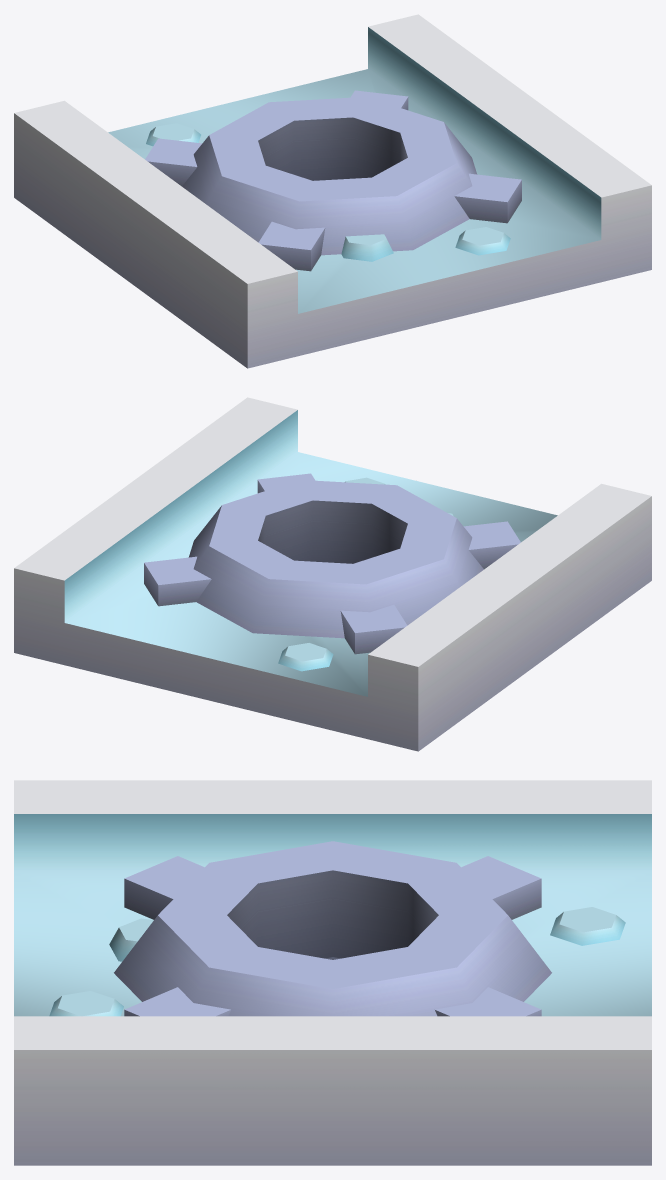
Rendered from kenney-tower-defense-snow-tile-spawn-round.glb.
The picture shows the model from 3 angles, top to bottom: view 1: azimuth 30°, elevation 25°; view 2: azimuth 150°, elevation 25°; view 3: azimuth 270°, elevation 25°; orthographic projection. The views are drawn at different scales.
Parts seen in each view (by area): view 1: snow-tile-spawn-round; view 2: snow-tile-spawn-round; view 3: snow-tile-spawn-round.
Part boxes in pixels (x1=…): snow-tile-spawn-round: x1=14, y1=14, x2=651, y2=368; snow-tile-spawn-round: x1=14, y1=397, x2=651, y2=751; snow-tile-spawn-round: x1=14, y1=780, x2=651, y2=1165.
Size of the model in its own units: 1 by 0.2 by 1.
1 material, 1 textured.
